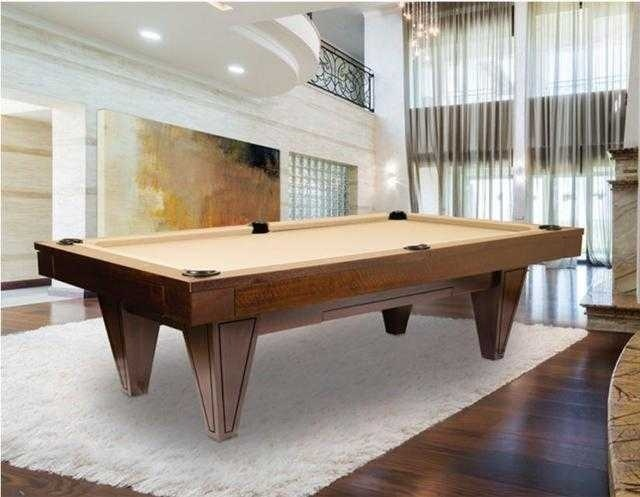obstacle: (35, 212, 582, 440)
